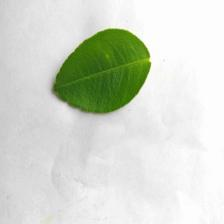greening: (47, 23, 161, 118)
